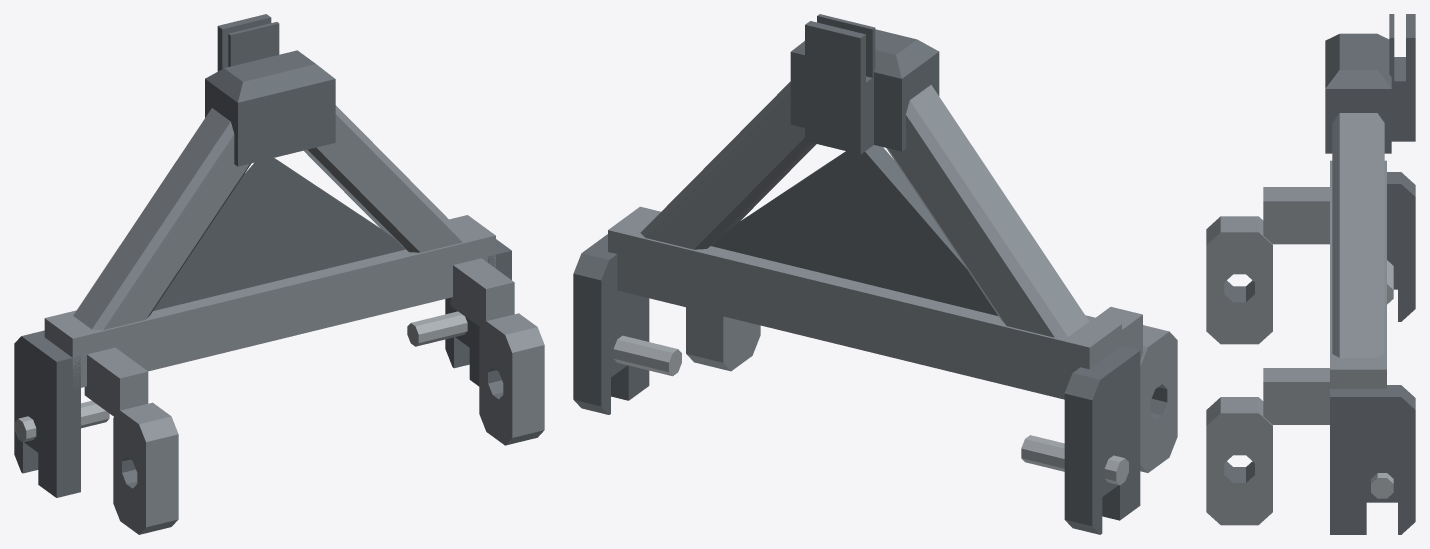
Rendered from FMS_Mach_QuickHitch.fbx.
The picture shows the model from 3 angles, left to right: view 1: azimuth 30°, elevation 25°; view 2: azimuth 150°, elevation 25°; view 3: azimuth 270°, elevation 25°; orthographic projection. The views are drawn at different scales.
Parts seen in each view (by area): view 1: Frame; view 2: Frame; view 3: Frame.
Part boxes in pixels (bbox=[...]): Frame: bbox=[14, 14, 544, 534]; Frame: bbox=[573, 14, 1177, 534]; Frame: bbox=[1206, 14, 1415, 534].
Size of the model in its own units: 1.17 by 0.93 by 0.44.
1 material, 1 textured.
